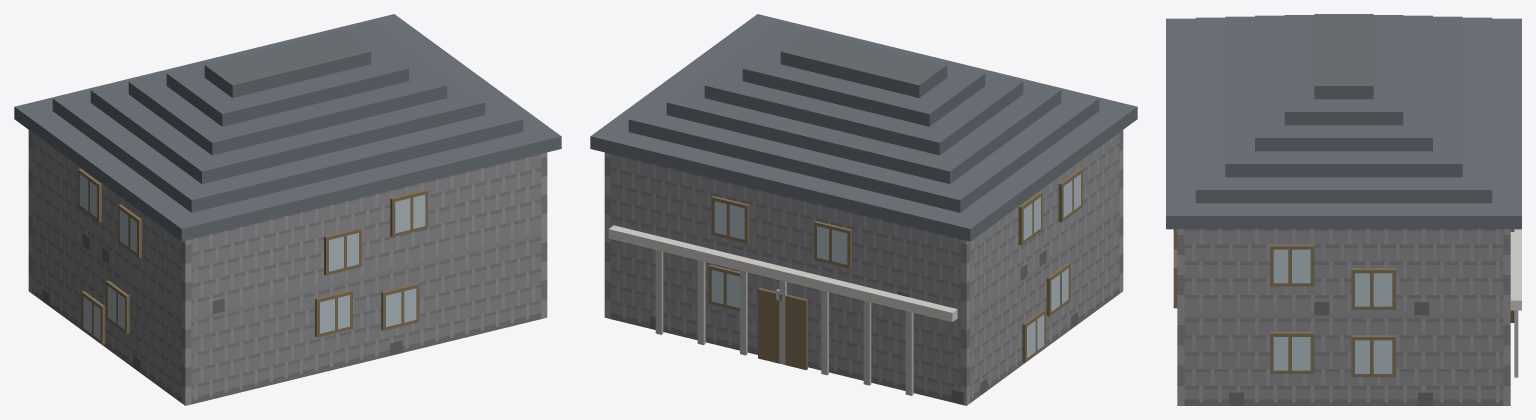
Rendered from academia_arcana_01.glb.
The picture shows the model from 3 angles, left to right: view 1: azimuth 30°, elevation 25°; view 2: azimuth 150°, elevation 25°; view 3: azimuth 270°, elevation 25°; orthographic projection. The views are drawn at different scales.
Visible parts, largest first — view 1: academia_arcana_01; view 2: academia_arcana_01; view 3: academia_arcana_01.
Boxes of the visible parts, box(x1,y1,x2,y2) form: academia_arcana_01: box(14, 14, 561, 405); academia_arcana_01: box(590, 14, 1137, 405); academia_arcana_01: box(1166, 14, 1521, 405).
Size of the model in its own units: 12.6 by 7.8 by 9.6.
